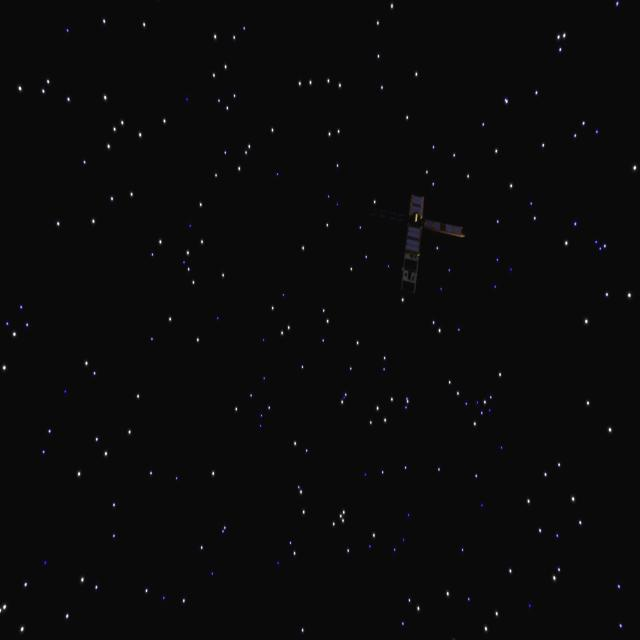satellite: (389, 188, 472, 314)
